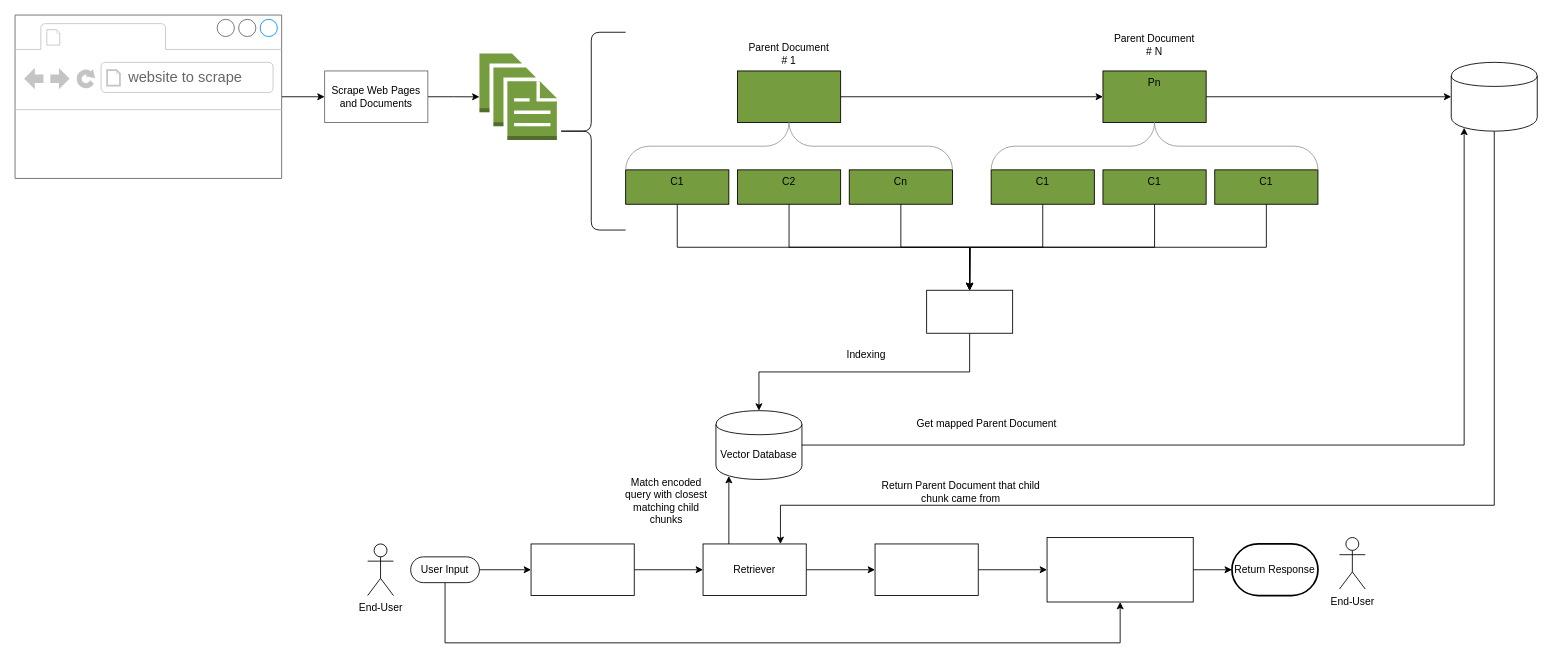
The diagram is 1552 pixels wide and 665 high, and some of its shapes have lost their labels. Each missing label, with the centre of its shape:
"Document Storage" belongs at pixel 1493 96.
"Encode Child Documents" belongs at pixel 969 311.
"Encode User Input" belongs at pixel 582 569.
"Generate Response with LLM with prompt, query and context" belongs at pixel 1119 569.
"P1" belongs at pixel 789 96.
"Page 1" belongs at pixel 113 36.
"Re-Rank Top K Results" belongs at pixel 926 569.
